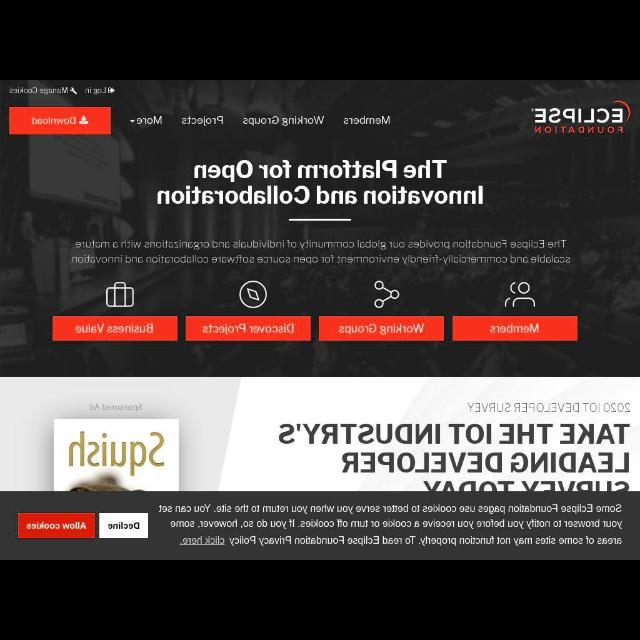icon: (504, 282, 536, 310), (372, 280, 401, 310), (240, 280, 268, 308), (106, 283, 134, 309), (70, 86, 78, 94), (79, 116, 87, 124), (108, 86, 114, 94)
image: (53, 418, 179, 492), (532, 101, 630, 135)
text: (278, 422, 630, 491), (158, 502, 624, 546), (158, 160, 484, 207), (69, 240, 571, 264), (468, 403, 632, 413), (338, 322, 424, 333), (241, 115, 325, 126), (203, 325, 293, 335), (76, 324, 154, 334), (9, 85, 68, 95), (28, 522, 86, 532), (491, 324, 539, 336), (344, 115, 391, 125), (180, 116, 224, 126), (32, 116, 76, 126), (137, 116, 163, 126), (108, 522, 140, 530), (85, 86, 107, 95)
textbutton: (318, 316, 444, 342), (52, 317, 178, 341), (453, 317, 577, 341), (186, 316, 310, 339), (9, 108, 111, 134), (20, 514, 94, 536), (99, 514, 149, 536)
